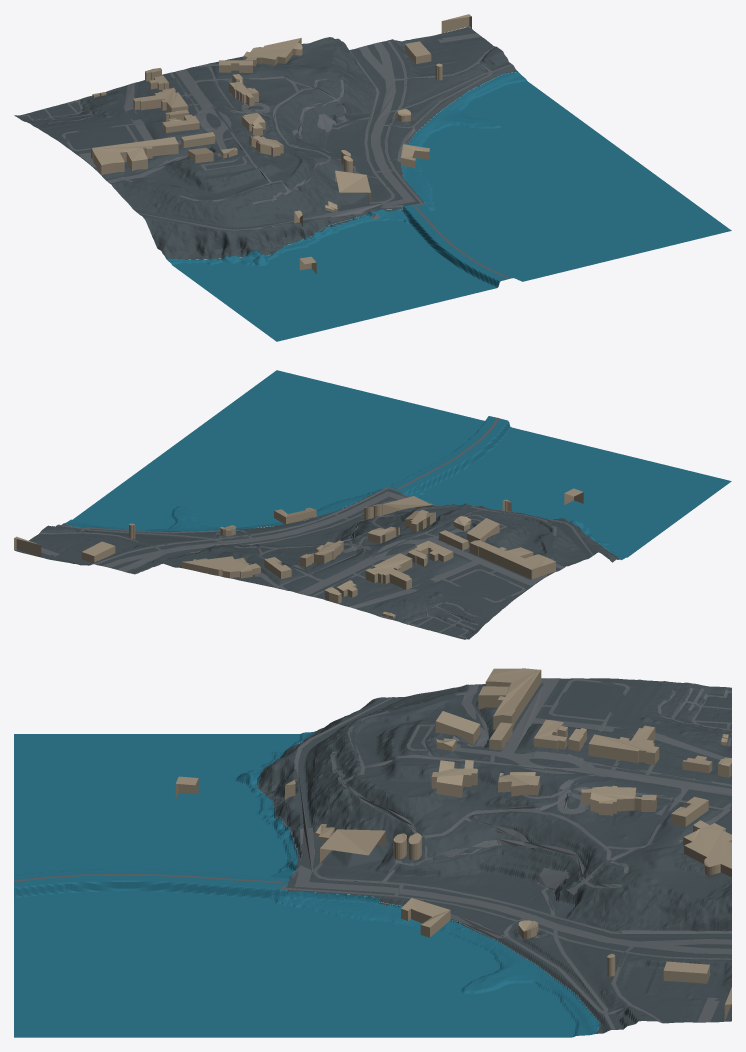
The model's file is epsg26910-1433-10897.lod0.glb.
3 views of the same model, one above another, from view 1: azimuth 30°, elevation 25°; view 2: azimuth 150°, elevation 25°; view 3: azimuth 270°, elevation 25° (orthographic). The views are drawn at different scales.
Visible parts, largest first — view 1: epsg26910-1433-10897-lod0; view 2: epsg26910-1433-10897-lod0; view 3: epsg26910-1433-10897-lod0.
Boxes of the visible parts, box(x1,y1,x2,y2) form: epsg26910-1433-10897-lod0: box(14, 14, 731, 341); epsg26910-1433-10897-lod0: box(14, 370, 731, 639); epsg26910-1433-10897-lod0: box(14, 668, 731, 1037).
Size of the model in its own units: 384 by 43.55 by 384.
